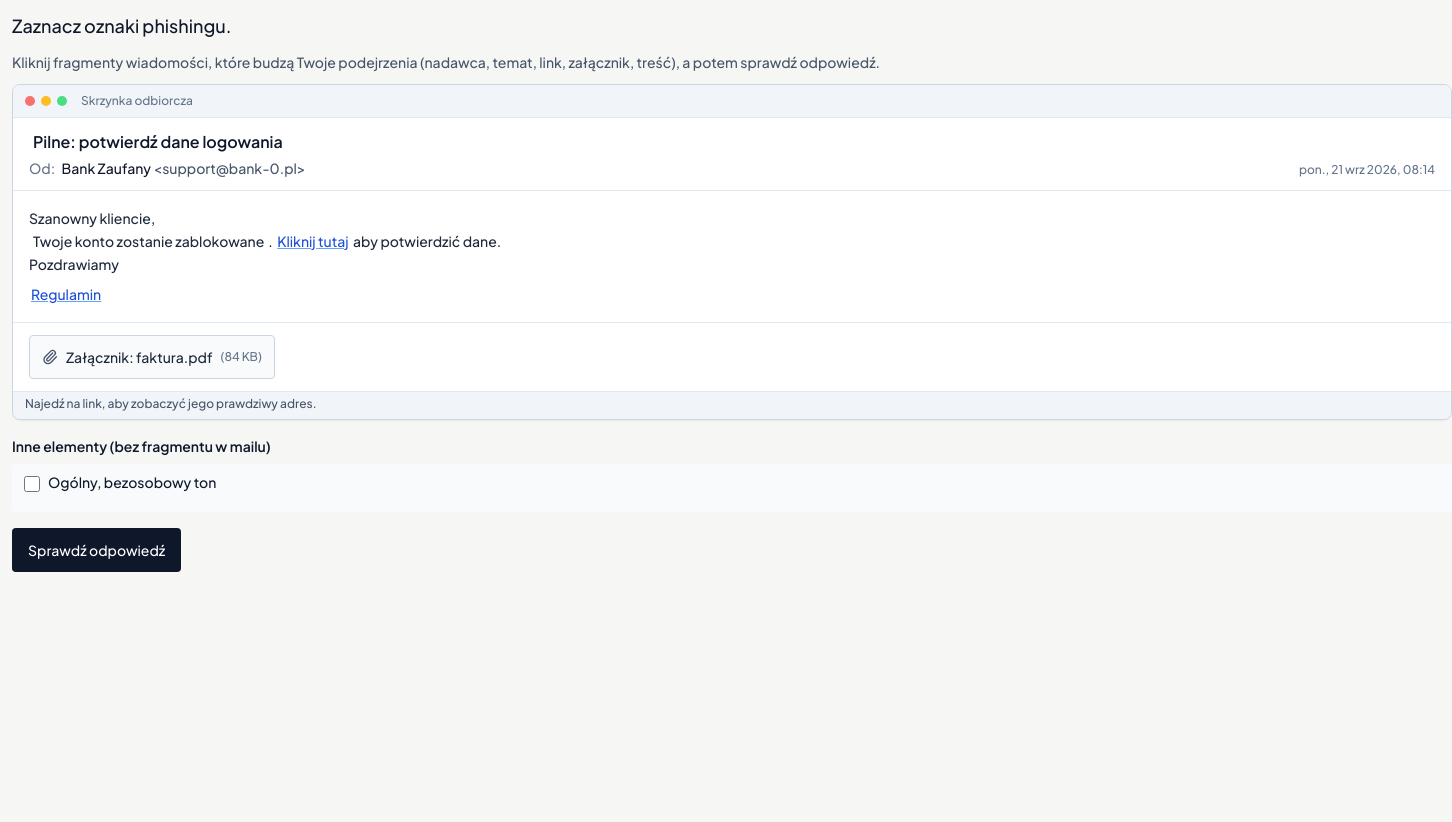
Test: EmailAnalysisBlock: link nigdy nie nawiguje, adres w pasku statusu › po najechaniu i fokusie pokazuje prawdziwy adres, po zjechaniu wraca podpowiedź
Expected: the message with test id "mail-status-bar" shows "Najedź na link", [25,396,316,411]
Hover over the button "Kliknij tutaj": (313, 241) [275,230,351,253]
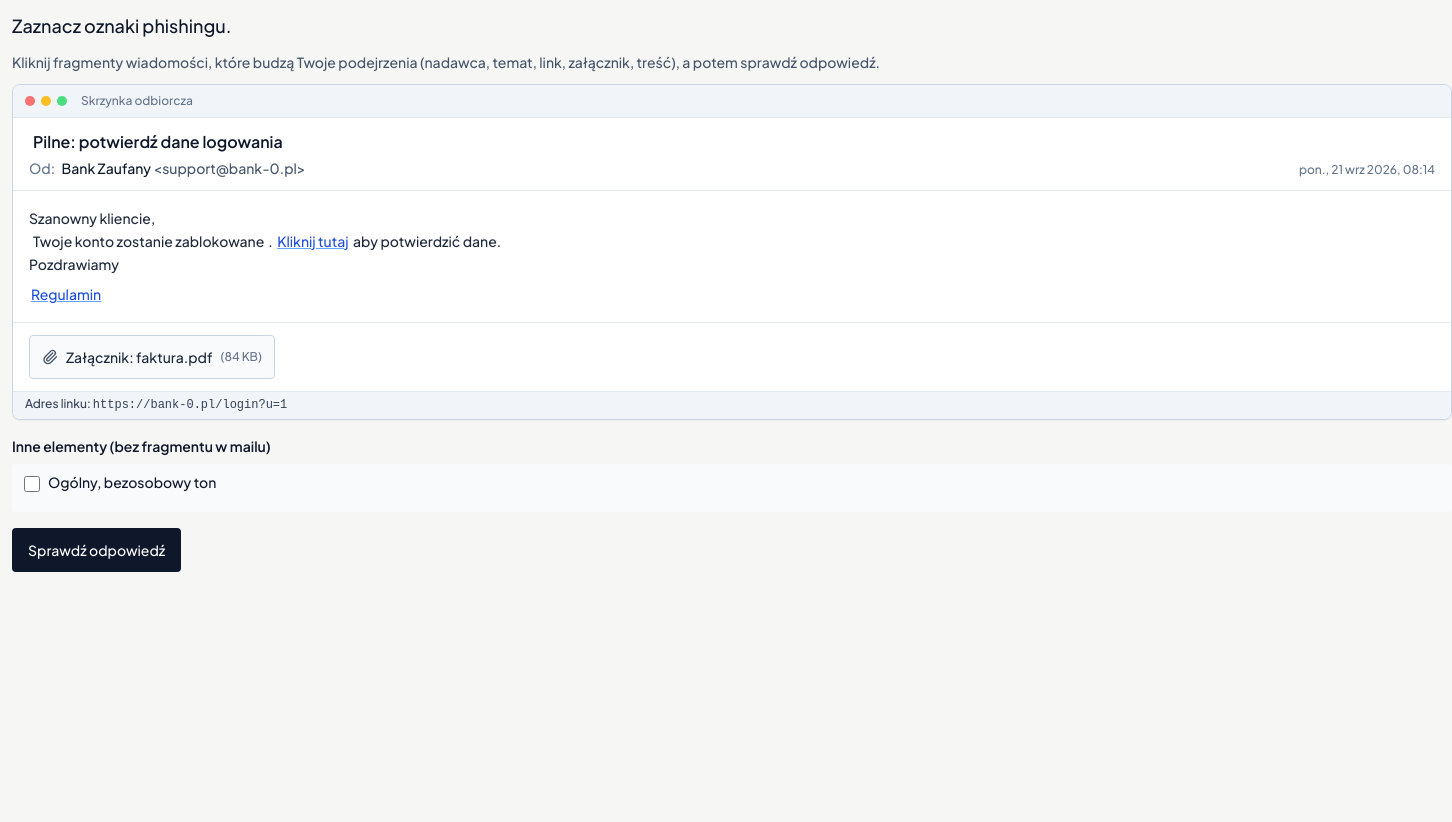
Expected: the message with test id "mail-status-bar" shows "https://bank-0.pl/login?u=1", [93,398,287,412]
Move the pointer off the button "Kliknij tutaj", box [275,230,351,253]
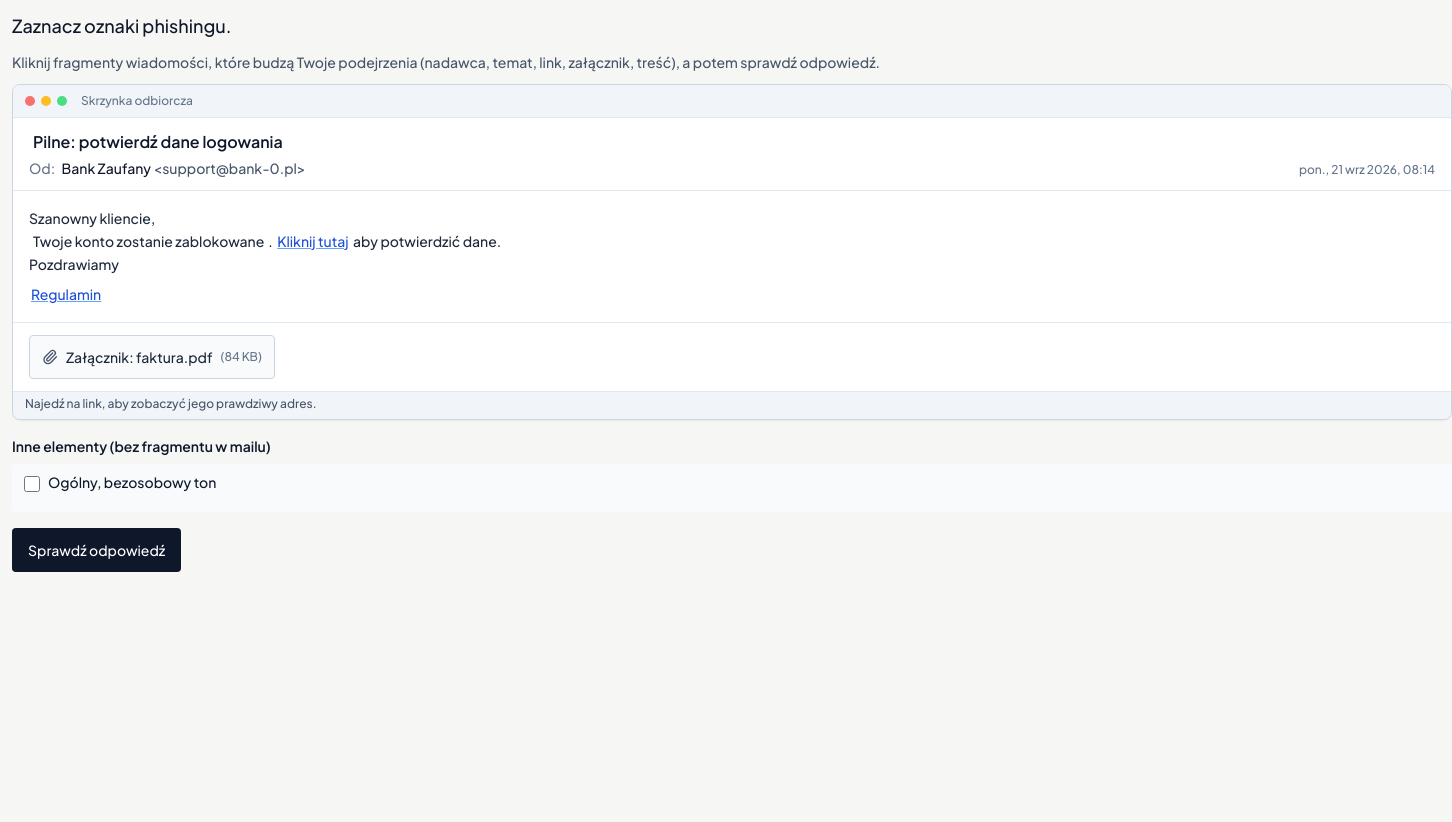
Expected: the message with test id "mail-status-bar" shows "Najedź na link", [25,396,316,411]
Focus the button "Kliknij tutaj": (313, 241) [275,230,351,253]
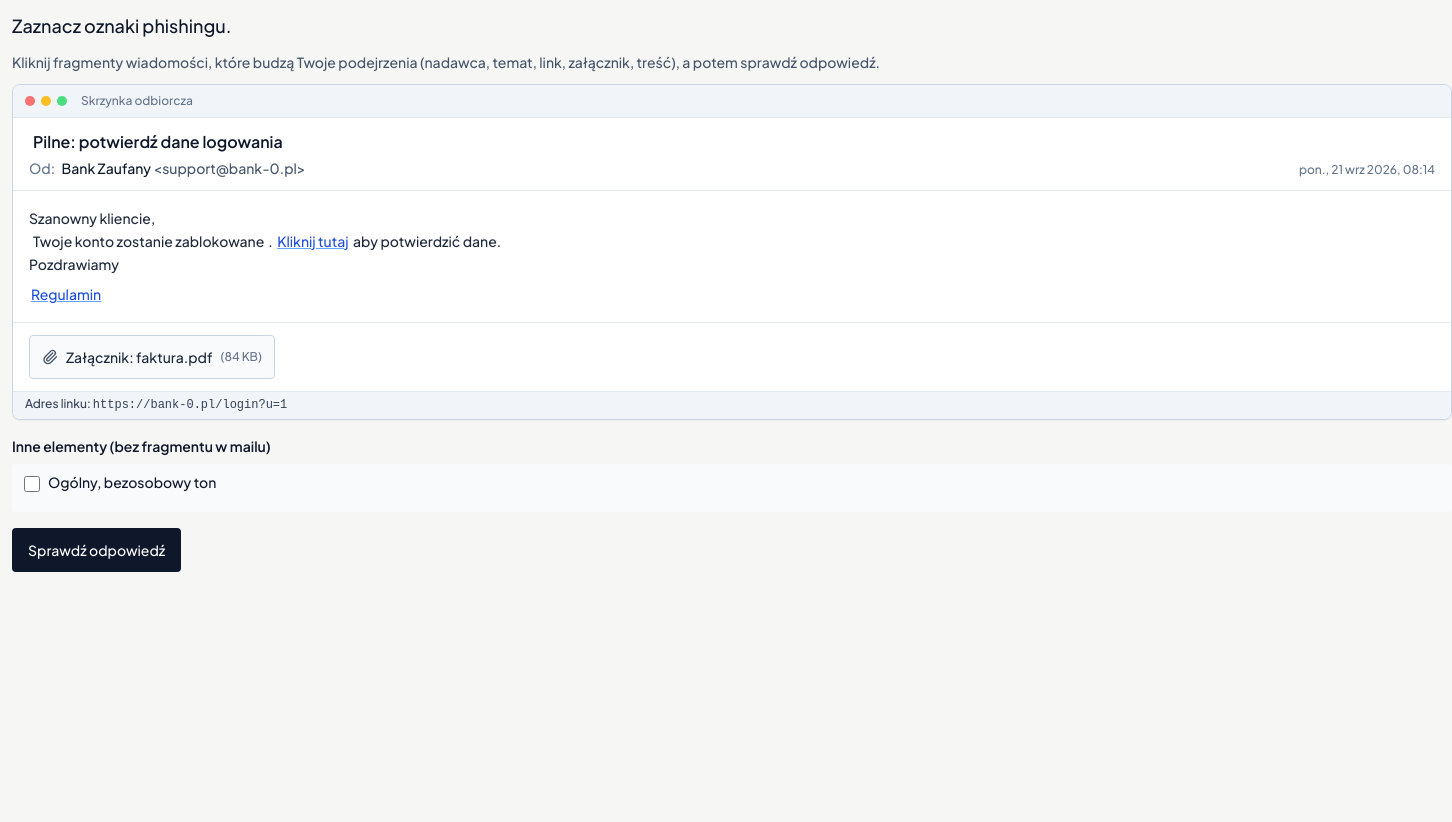
Expected: the message with test id "mail-status-bar" shows "https://bank-0.pl/login?u=1", [93,398,287,412]
